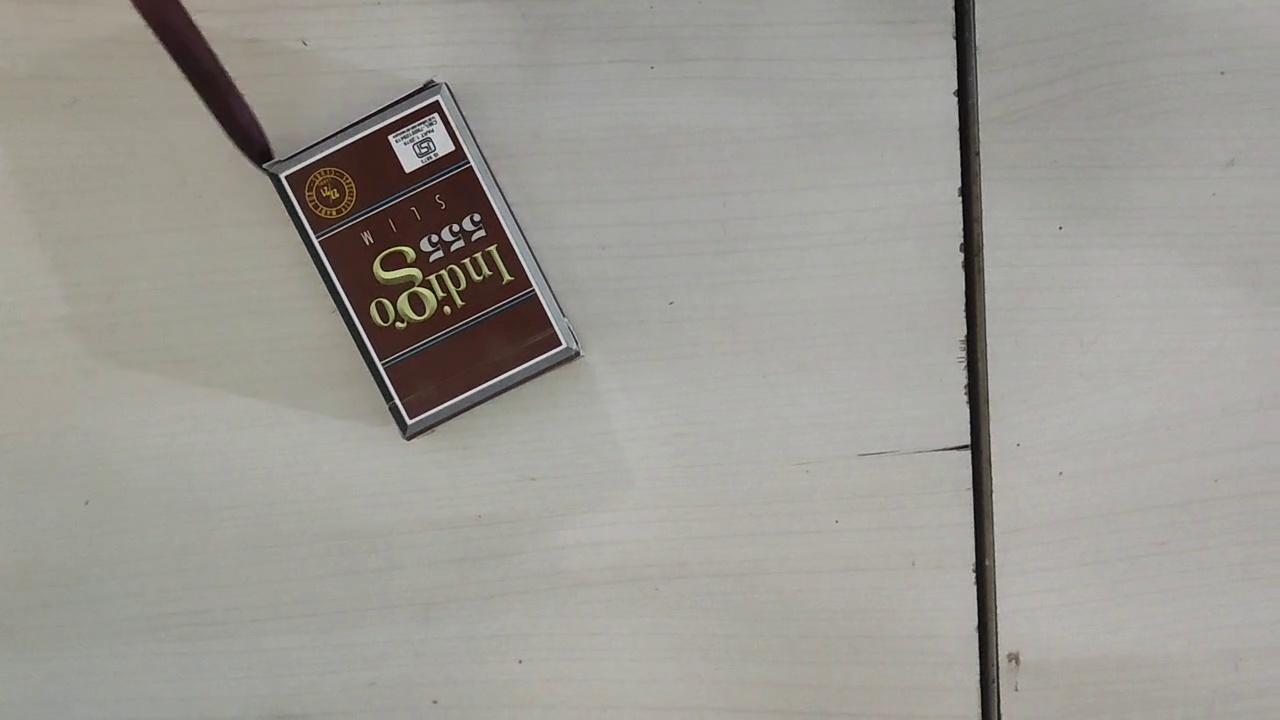BEX: (284, 97, 566, 423)
